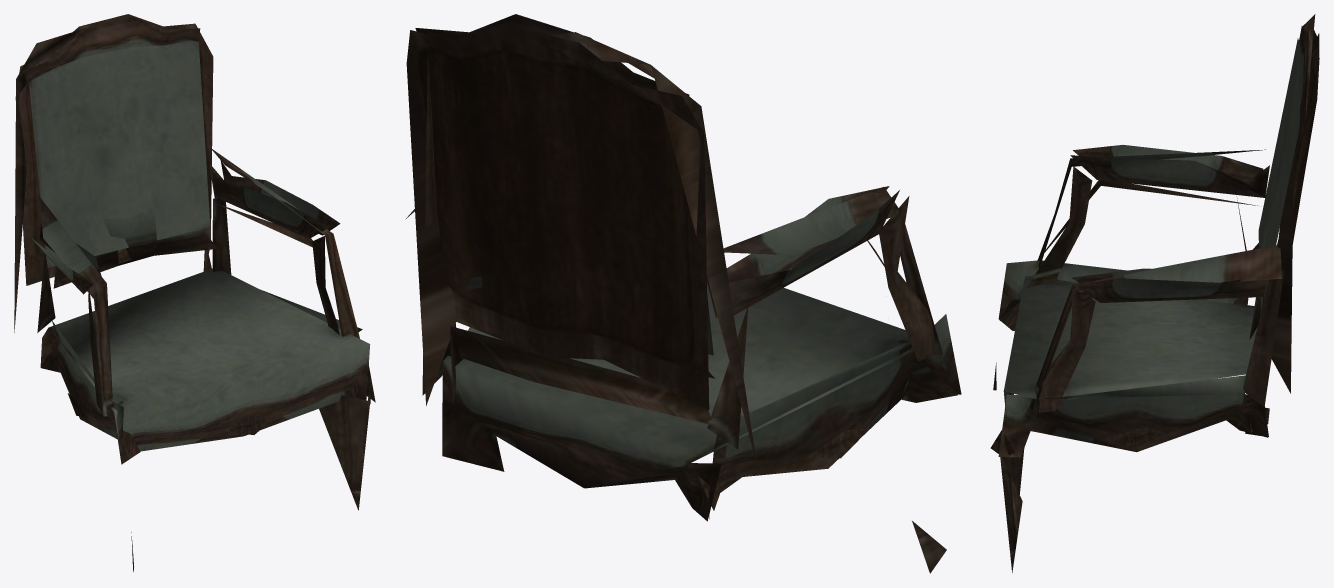
The model's file is ph_GreenChair_01.glb.
3 views of the same model, side by side, from view 1: azimuth 30°, elevation 25°; view 2: azimuth 150°, elevation 25°; view 3: azimuth 270°, elevation 25° (orthographic). The views are drawn at different scales.
Parts seen in each view (by area): view 1: GreenChair_01; view 2: GreenChair_01; view 3: GreenChair_01.
Boxes of the visible parts, <box> form: GreenChair_01: <box>14,14,375,571</box>; GreenChair_01: <box>405,14,961,573</box>; GreenChair_01: <box>990,14,1319,572</box>.
Bounding box in the file's own units: 0.6813 × 1.05 × 0.6585.
Materials: 1 (1 with a texture image).
